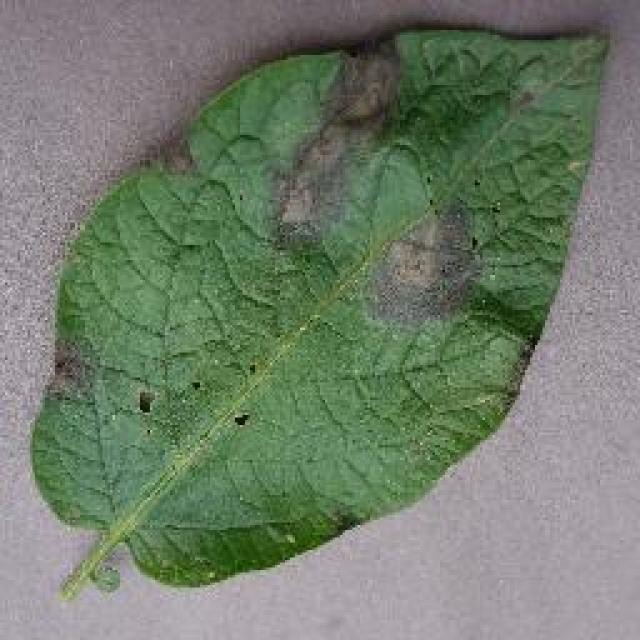late_blight: (25, 23, 613, 595)
